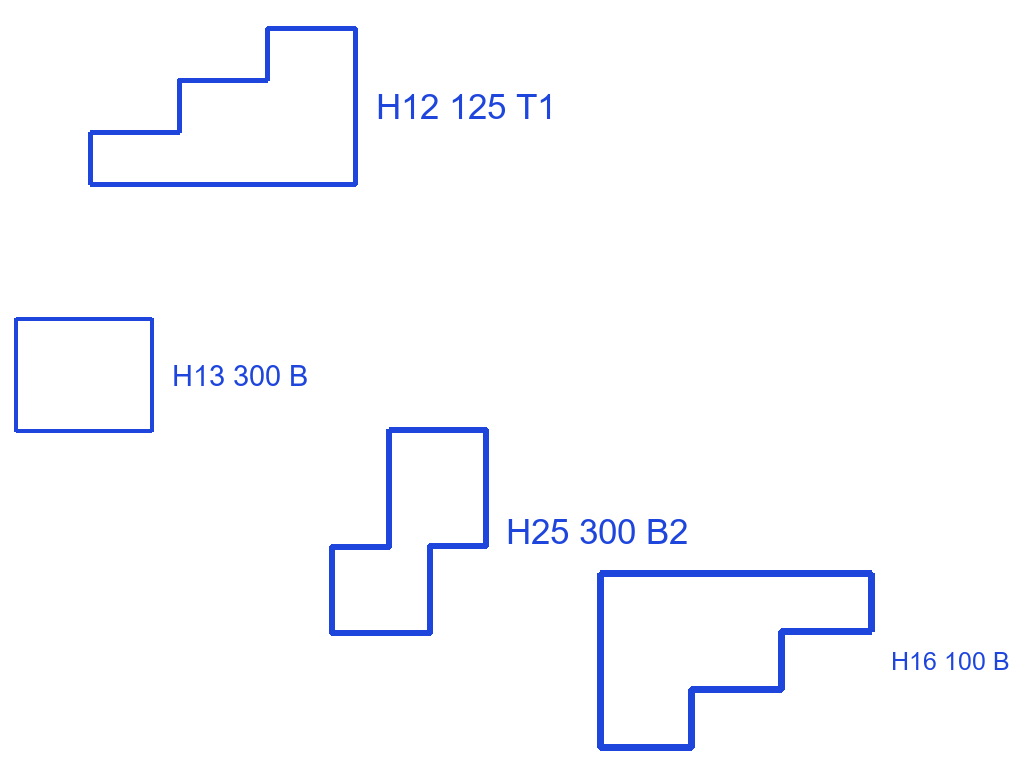shape: (595, 568, 877, 753), (86, 24, 360, 189), (328, 424, 491, 639), (13, 315, 156, 435)
text: (504, 517, 690, 546), (374, 92, 558, 121), (170, 363, 310, 388), (889, 650, 1012, 672)
